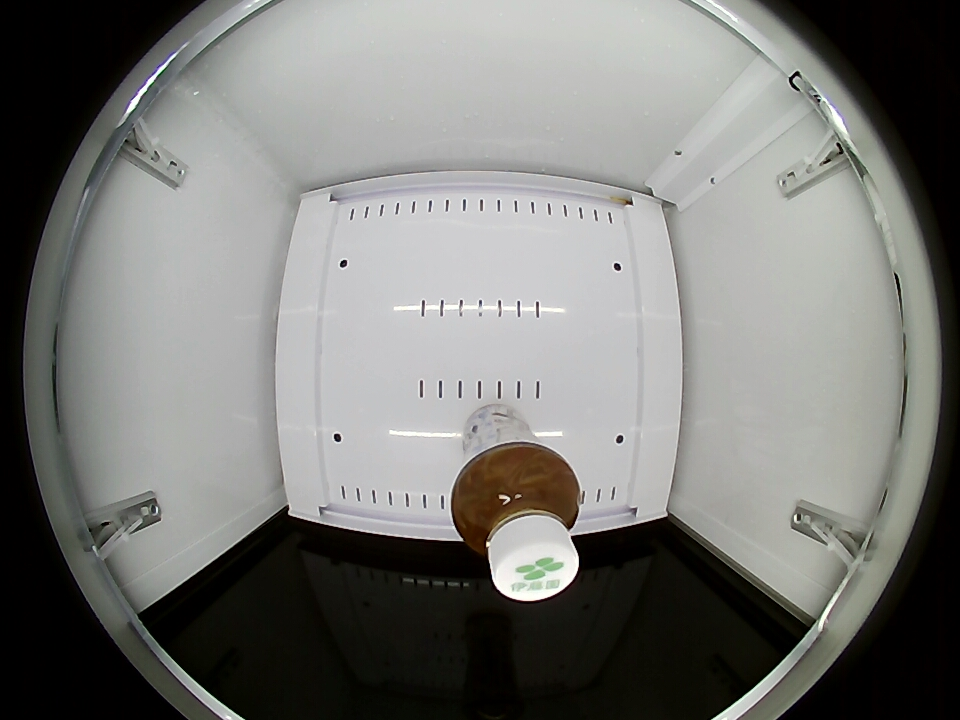baicha: (450, 443, 584, 601)
